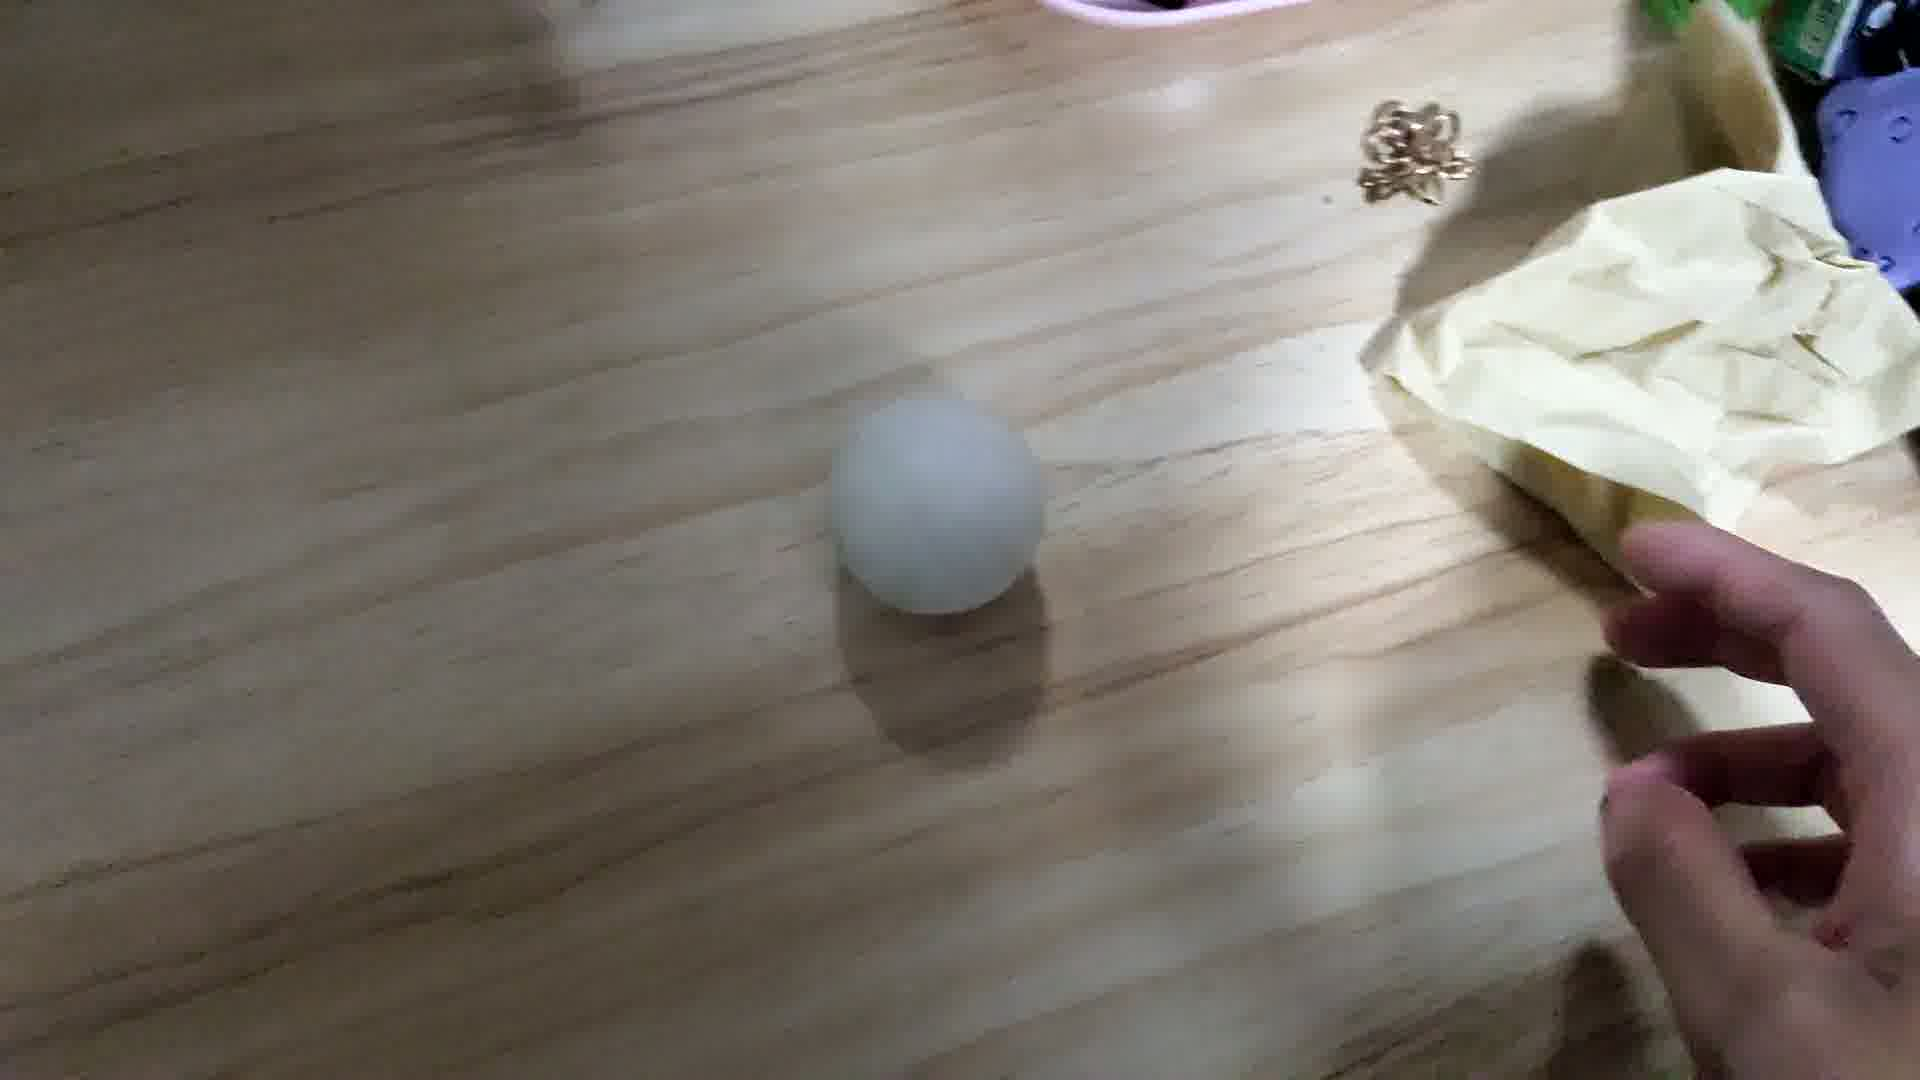Ball: (827, 398, 1051, 629)
